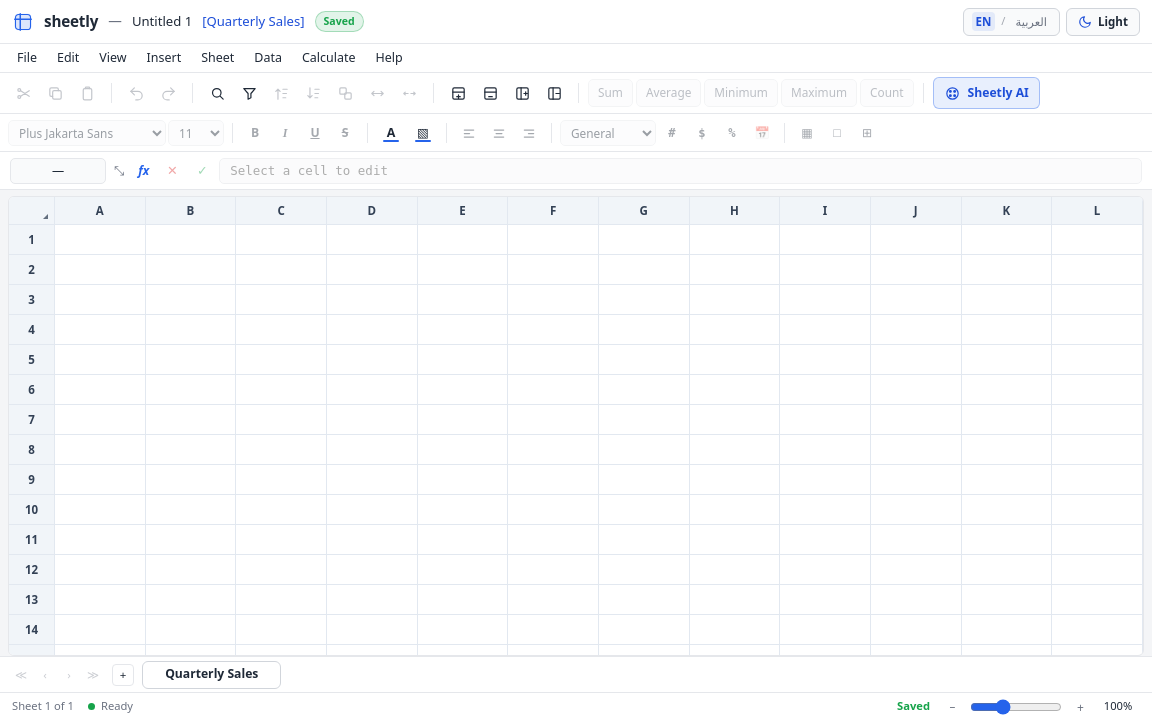
Test case: App › keeps file operations together in the File menu and prints from there
Click the button "File": (27, 58) [8,44,46,72]
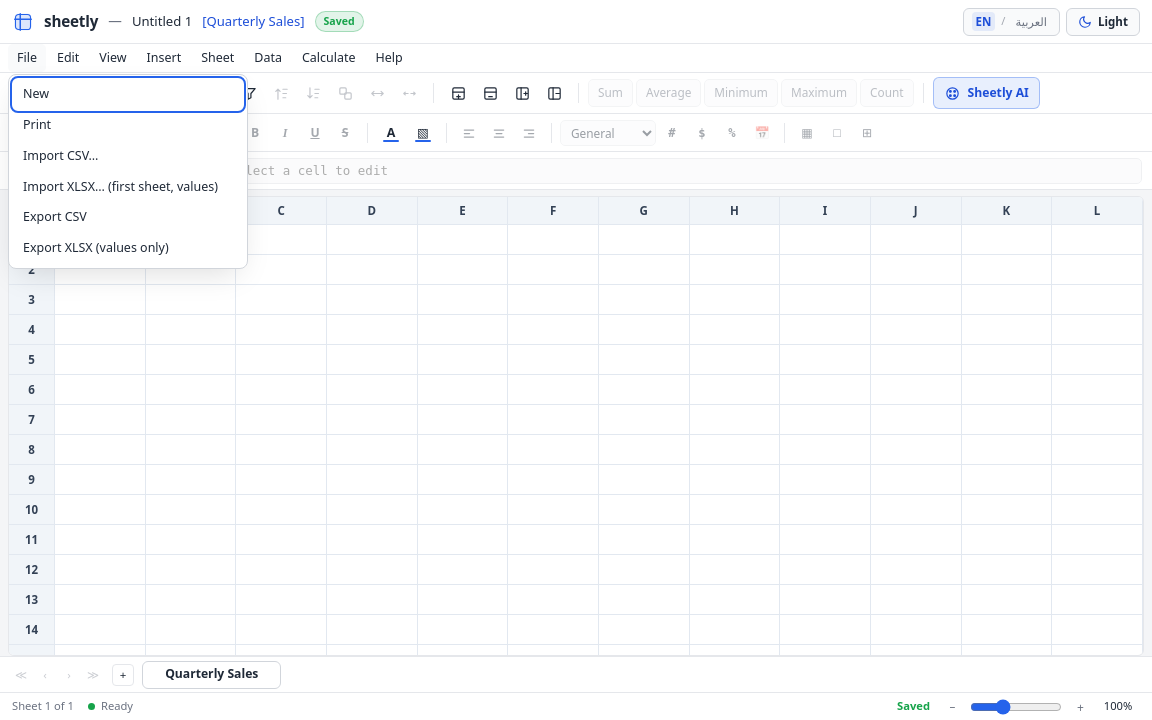
Check: the menu item "New" is shown, box [13,79,243,110]
Check: the menu item "Print" is shown, box [13,110,243,141]
Check: the menu item "Import CSV…" is shown
Click the menu item "Import CSV…": (128, 156) [13,141,243,172]
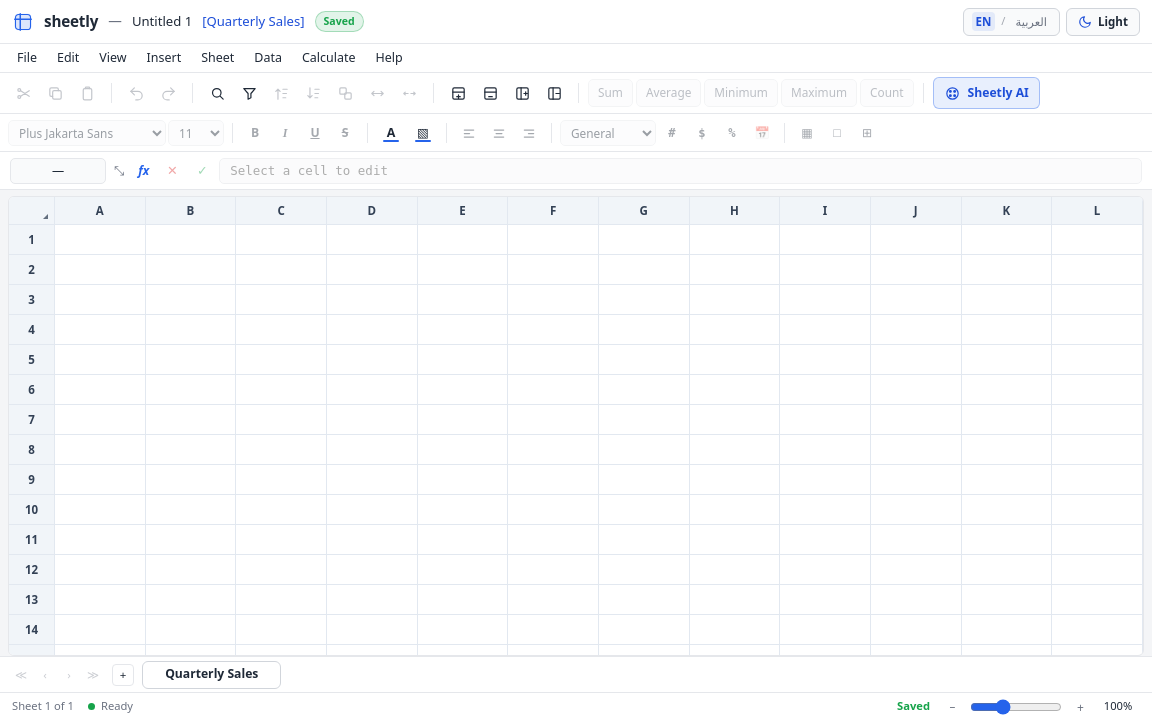
Check: the menu is gone
Click the button "File": (27, 58) [8,44,46,72]
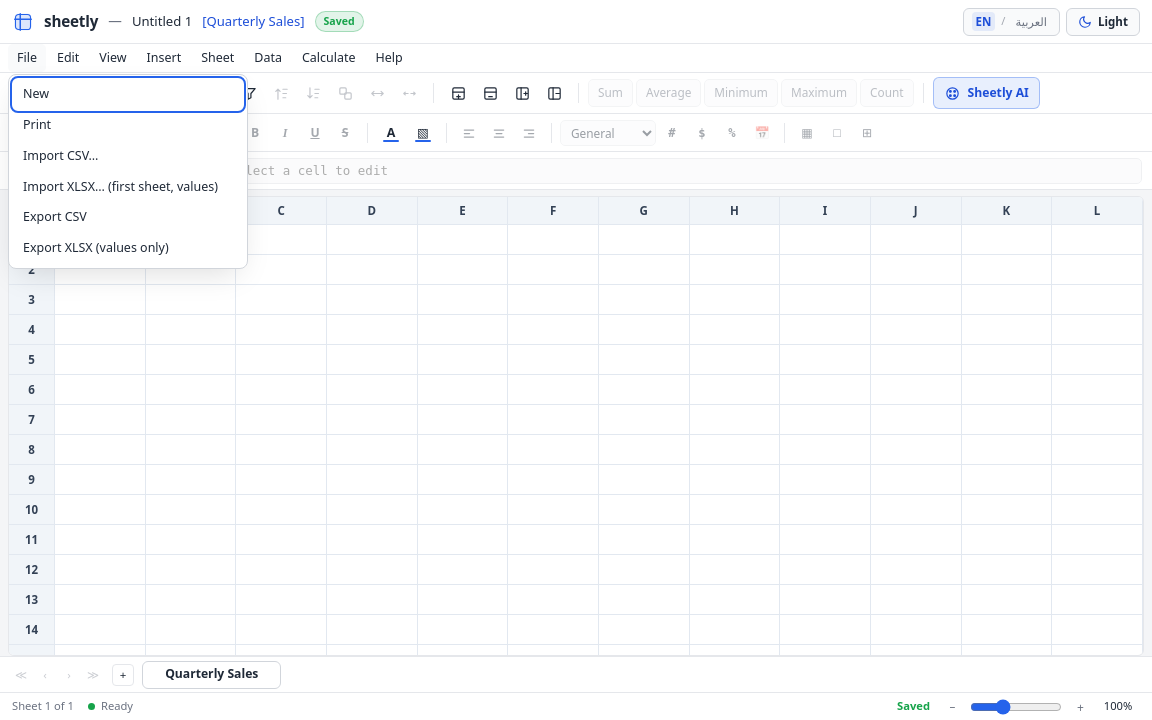
Click the menu item "Import XLSX… (first sheet, values)": (128, 187) [13,172,243,202]
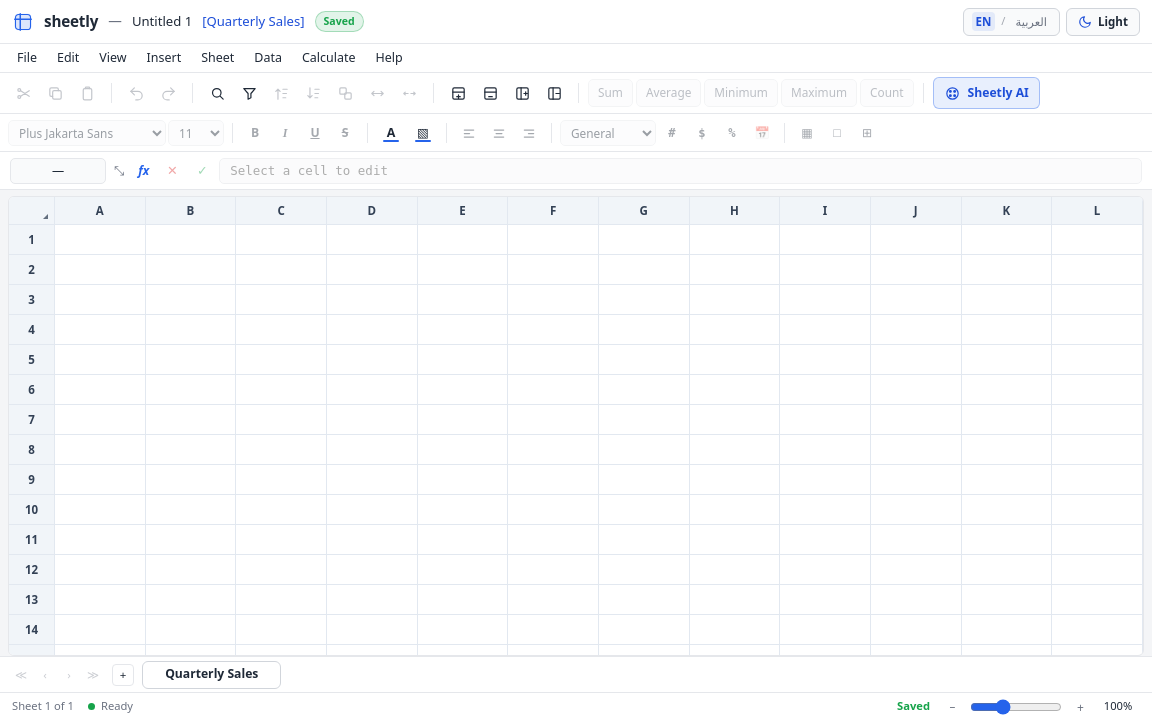
Check: the menu is gone
Click the button "File": (27, 58) [8,44,46,72]
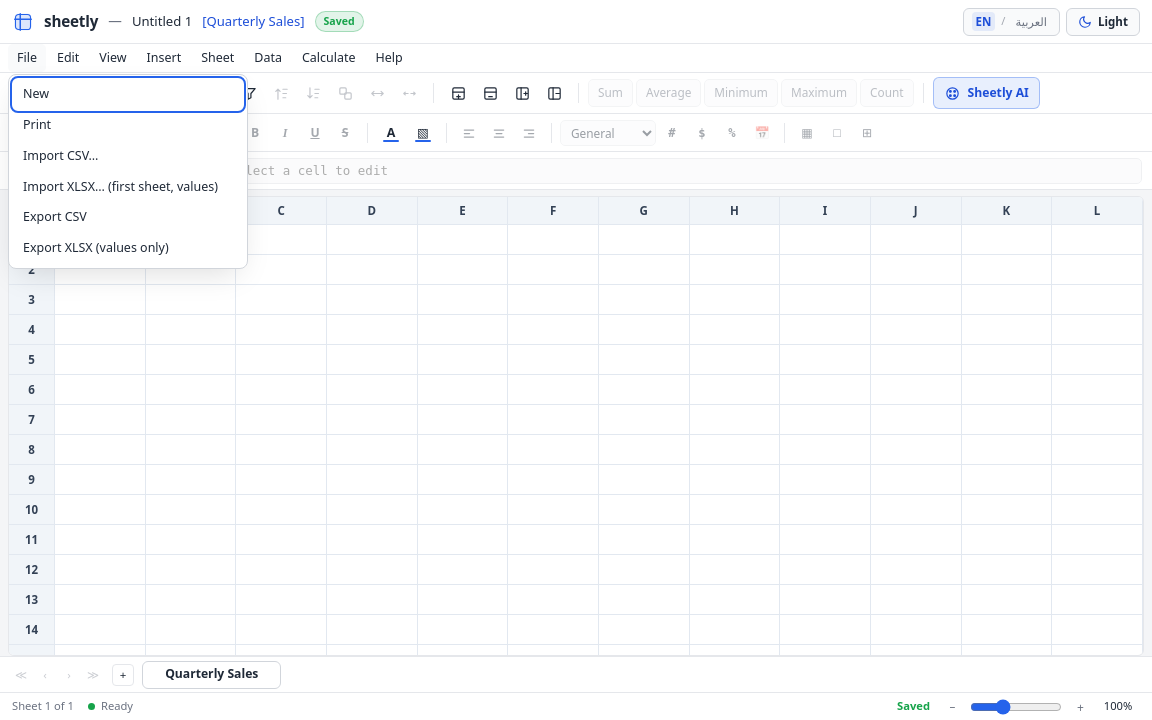
Click the menu item "Print": (128, 125) [13,110,243,141]
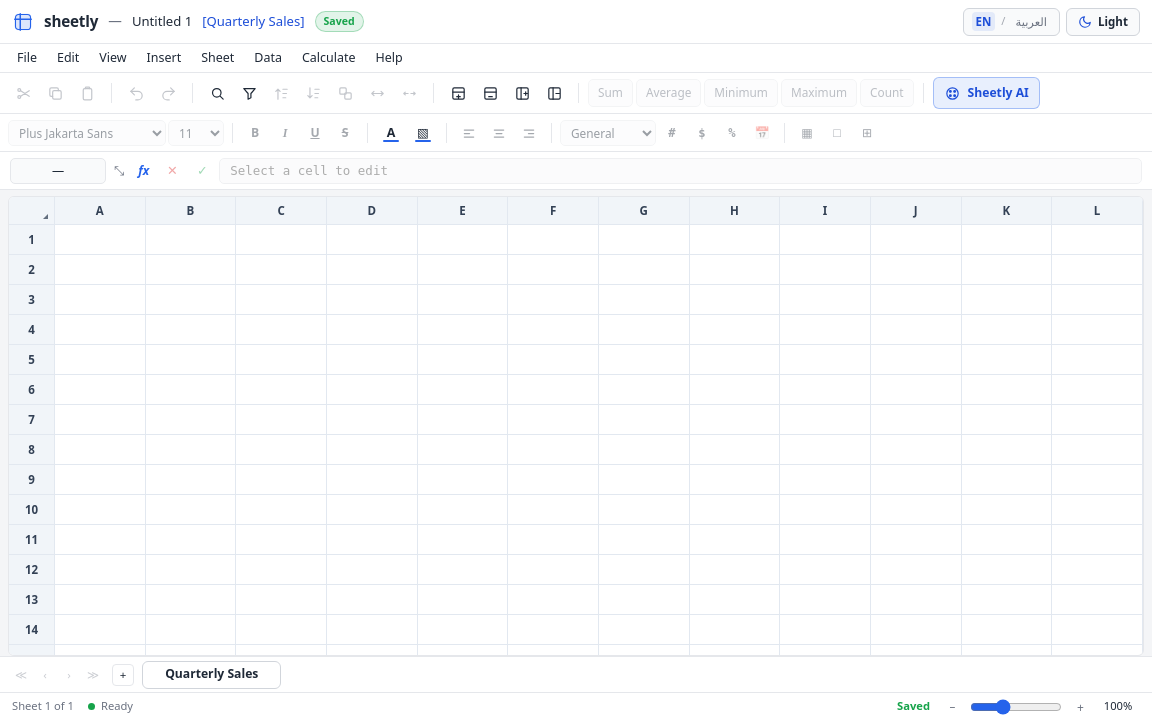
Check: the menu is gone
